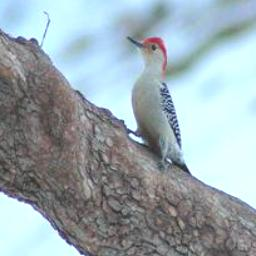Woodpecker: (124, 33, 193, 178)
